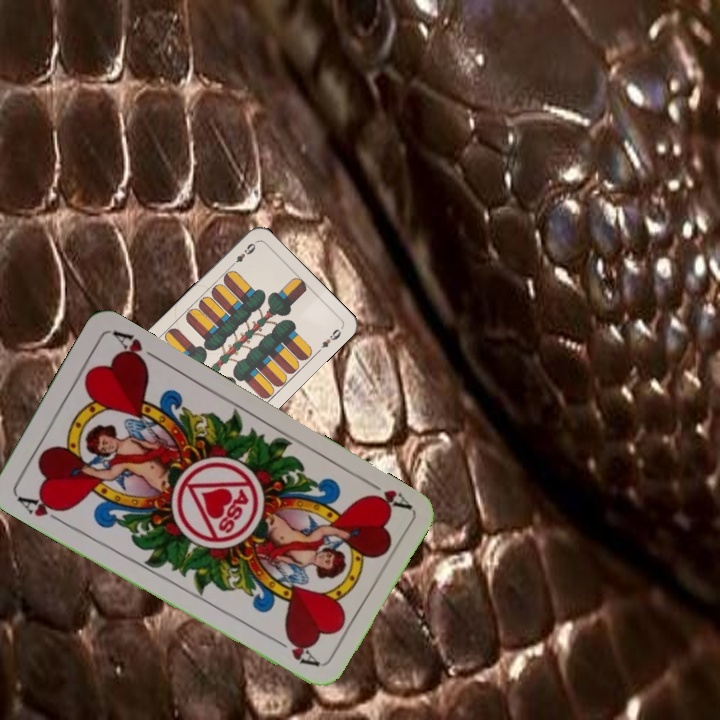E9: (227, 238, 259, 270)
HA: (359, 473, 413, 514), (13, 490, 70, 526)
